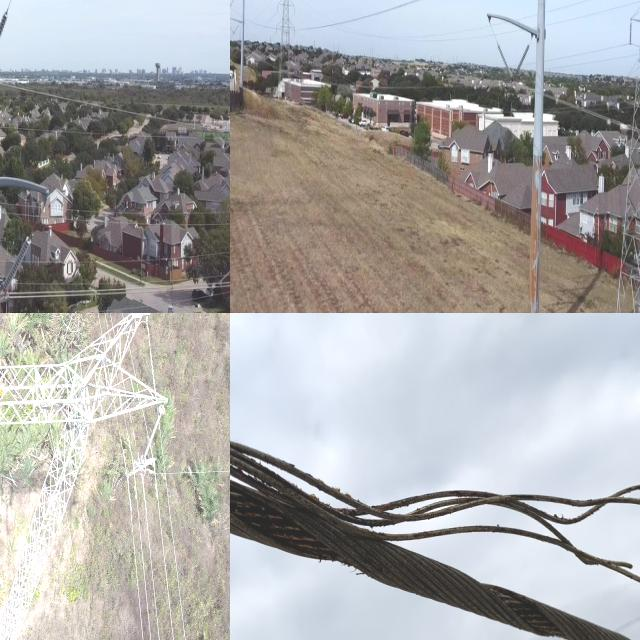杆塔: (0, 313, 175, 640), (608, 0, 640, 313), (267, 0, 301, 108)
正常绝缘子: (0, 221, 41, 307), (139, 403, 167, 466), (507, 38, 533, 96), (492, 34, 517, 84), (0, 0, 17, 53), (625, 14, 637, 54)
电缆破损: (230, 399, 640, 640)
